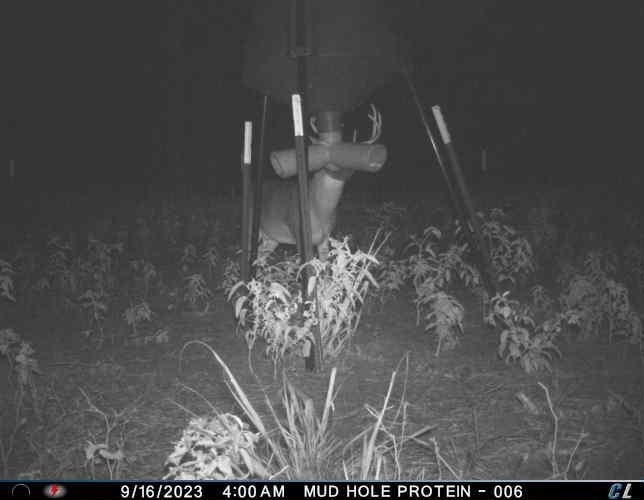Deer: (253, 102, 386, 265)
